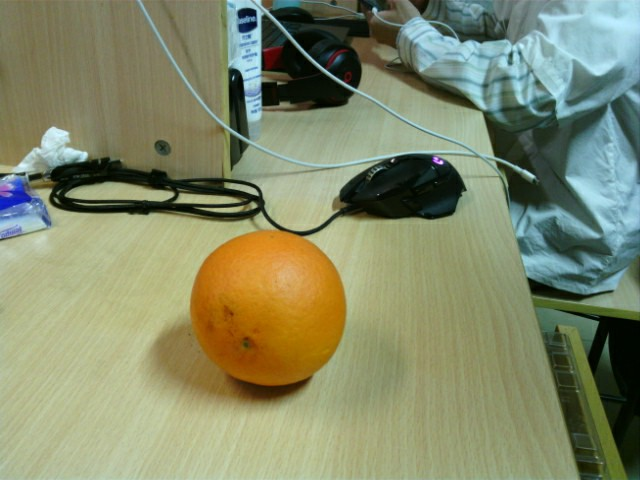normal_orange: (189, 231, 347, 383)
